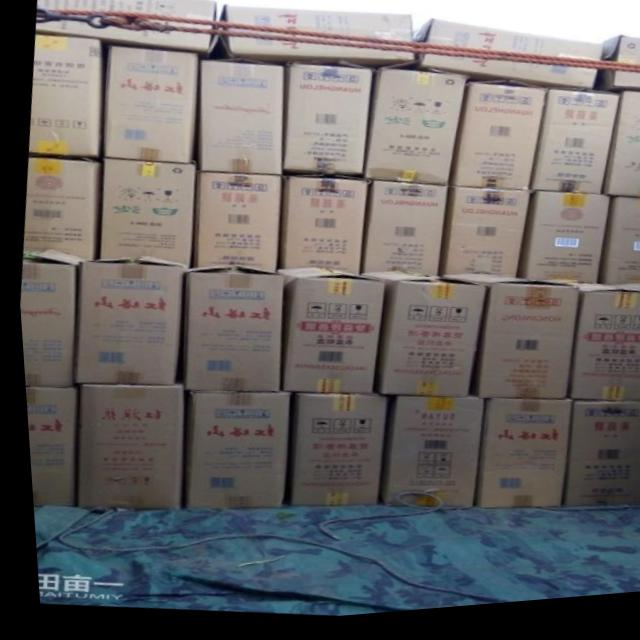box: (331, 273, 487, 403), (424, 278, 576, 405), (61, 258, 183, 388), (65, 386, 183, 509), (270, 272, 379, 401), (174, 266, 281, 396), (413, 26, 599, 100), (172, 392, 286, 512), (214, 9, 417, 75), (359, 73, 462, 194), (276, 397, 385, 509), (98, 45, 195, 166), (368, 400, 470, 515), (447, 88, 550, 200), (93, 160, 191, 271), (466, 406, 565, 515), (521, 97, 619, 206), (195, 61, 283, 181), (36, 0, 220, 57), (277, 67, 367, 181), (563, 290, 640, 410), (553, 411, 640, 517), (27, 36, 101, 158), (430, 191, 526, 284), (516, 196, 607, 293), (192, 176, 278, 278), (355, 184, 446, 279), (20, 154, 95, 262), (16, 247, 70, 388), (279, 182, 359, 274), (20, 387, 70, 505), (598, 99, 640, 208), (591, 205, 640, 296), (588, 44, 640, 100)
